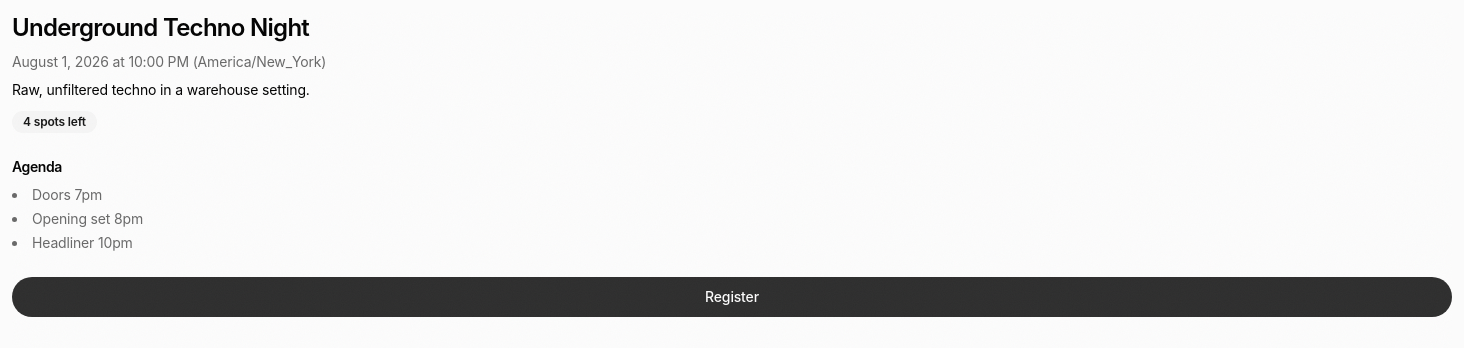
Test case: EventDetailSection — event-detail / event-confirmation blocks › a duplicate-registration rejection hides the register button and shows already-registered, without a confirmation render
Click the button "Register" at (732, 297), box [12, 277, 1452, 317]
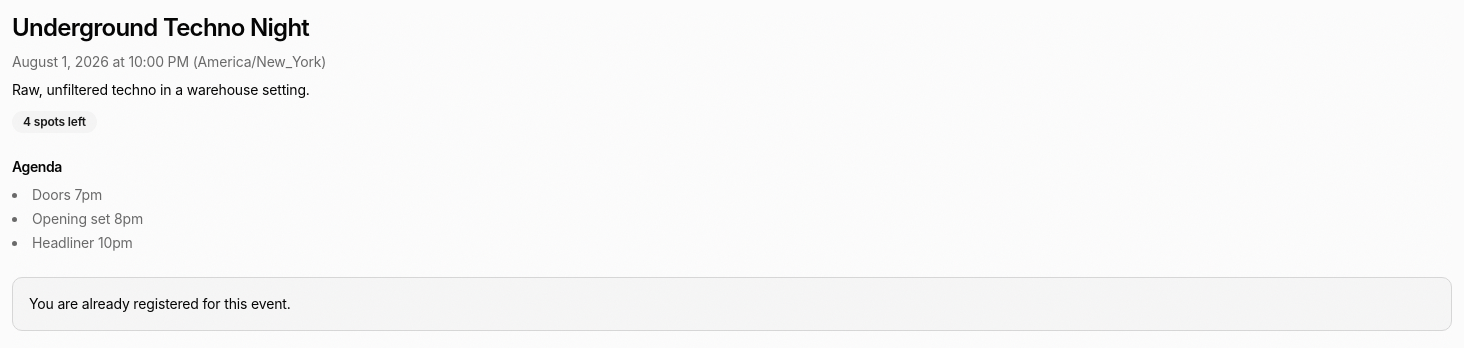
Now the text "You are already registered for this event." is shown, box [12, 277, 1452, 331]
